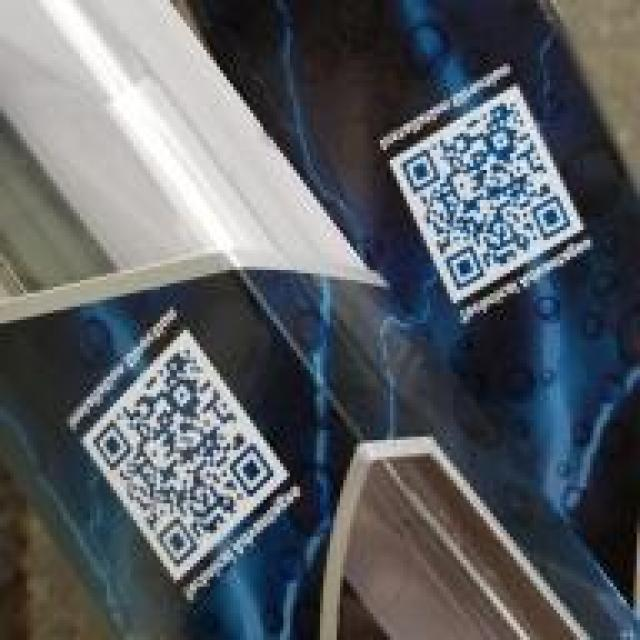qr_code: (92, 346, 276, 569), (401, 97, 572, 291)
